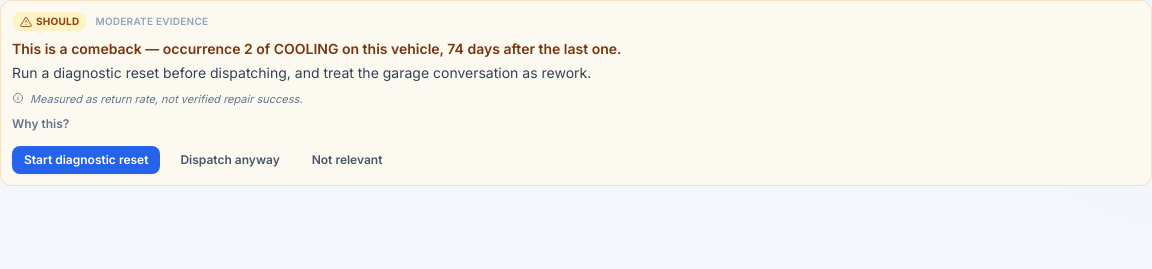
Test: leads with the observation and the recommendation, and keeps the statistics behind a disclosure
The width and height of the screenshot is (1152, 269).
Expected: the text "occurrence 2 of COOLING" is shown, x1=12 y1=40 x2=622 y2=57
Expected: the text "Run a diagnostic reset" is shown, x1=12 y1=64 x2=591 y2=81
# …but it is one tap away, with the sample size alongside it.
Click the button "Why this?". click: (41, 124)
box: x1=12 y1=116 x2=69 y2=132
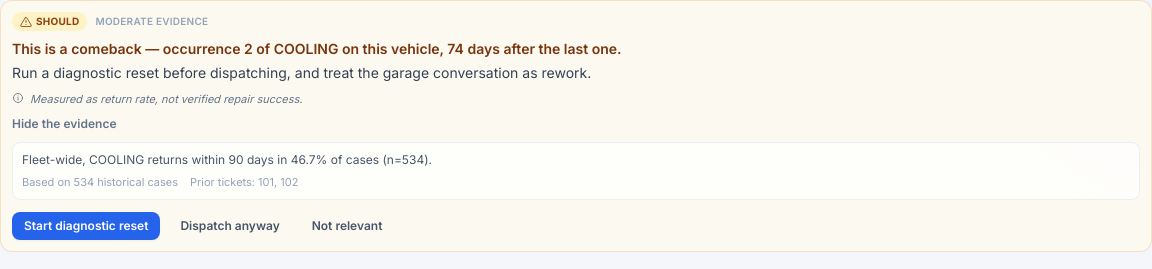
Expected: the text "46.7%" is shown, x1=22 y1=152 x2=432 y2=166
Expected: the text "Based on 534 historical cases" is shown, x1=22 y1=174 x2=178 y2=190
